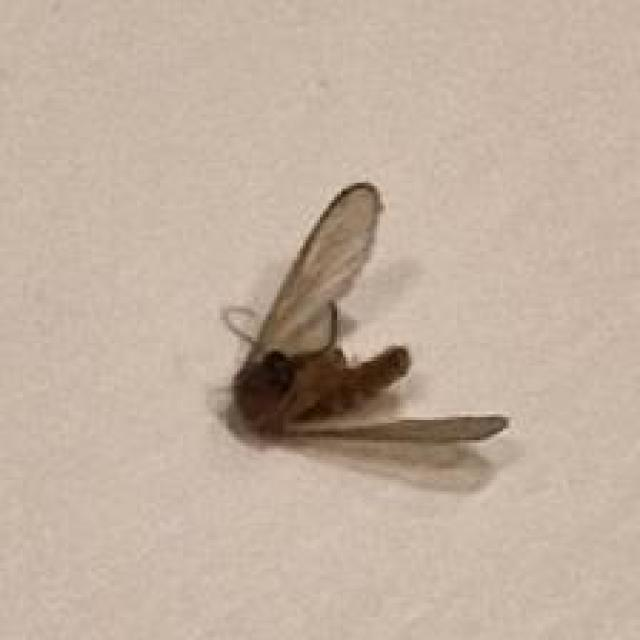Culex: (219, 180, 510, 446)
